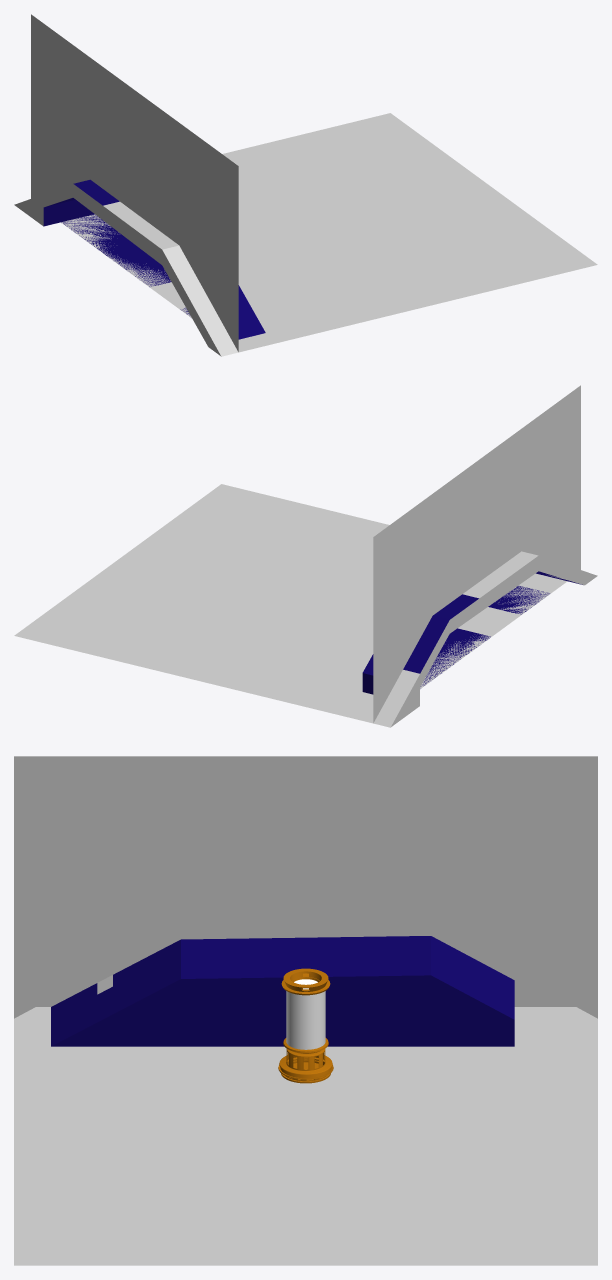
File: tele1.glb
3 views of the same model, one above another, from view 1: azimuth 30°, elevation 25°; view 2: azimuth 150°, elevation 25°; view 3: azimuth 270°, elevation 25° (orthographic). The views are drawn at different scales.
Parts seen in each view (by area): view 1: Plane; view 2: Plane; view 3: Plane, Cylinder.001, Cylinder, Cylinder.003.
Boxes of the visible parts, x1,y1,x2,y2 form: Plane: (14,14,597,356); Plane: (14,385,597,727); Plane: (14,756,597,1265); Cylinder.001: (286,991,325,1049); Cylinder: (278,1038,333,1083); Cylinder.003: (281,968,330,995).
Size of the model in its own units: 68.88 by 32.59 by 65.75.
